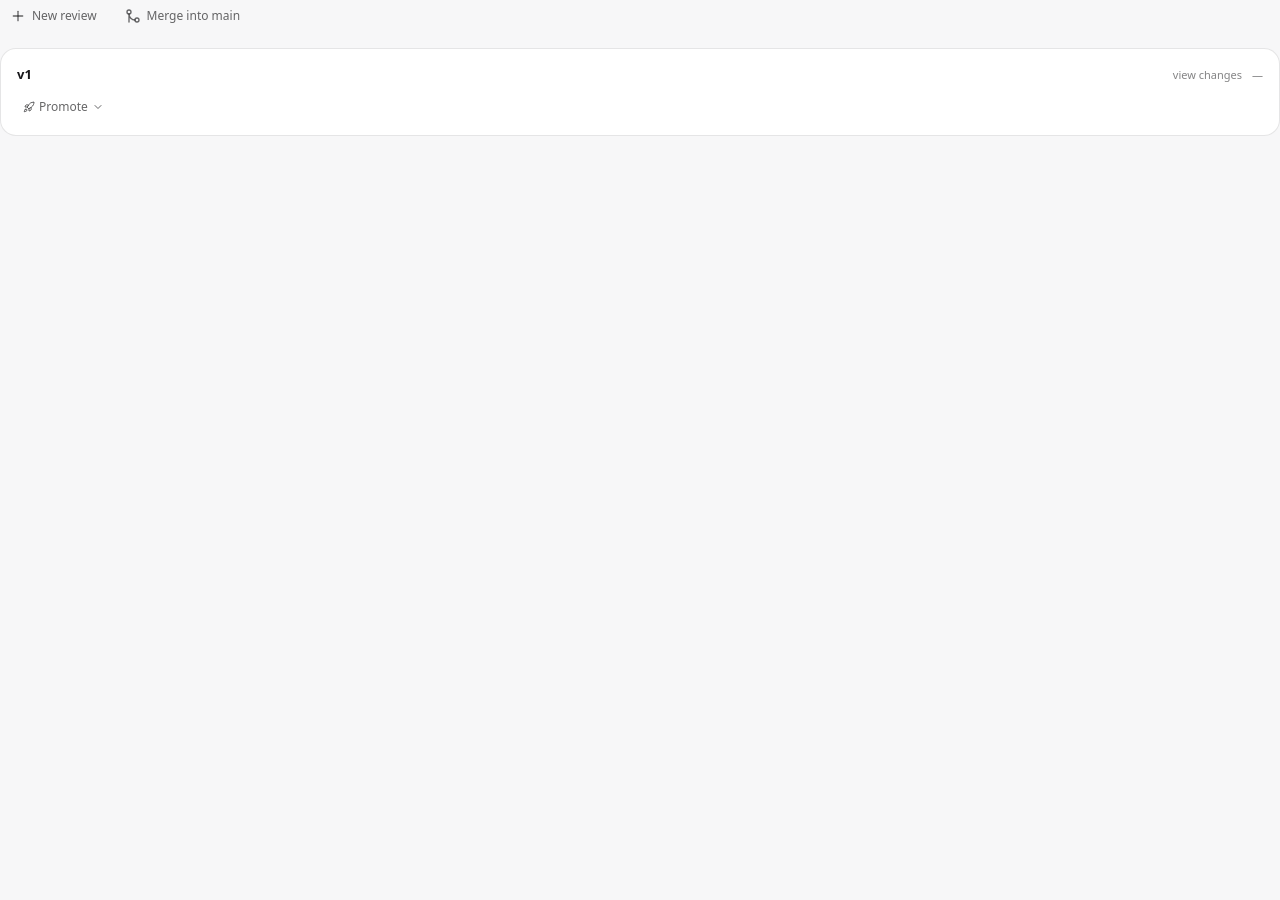
Test: ActivityFeed promote menu › drops an environment the workspace no longer has from the menu once promoting to it answers 404
Click the button "Promote" at (63, 106), box [17,94,110,118]
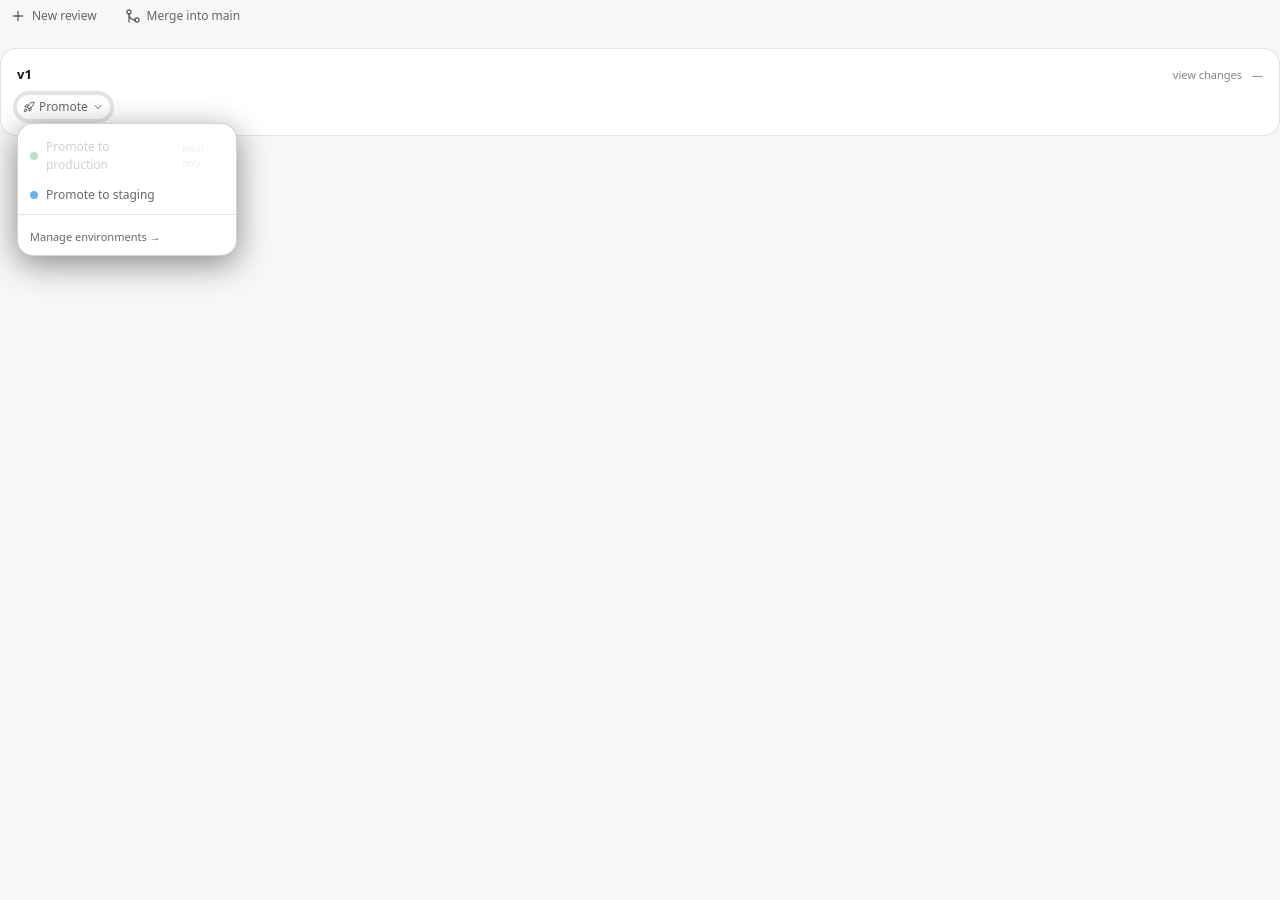
Click the button "Promote to staging" at (127, 194), box [18,180,236,210]
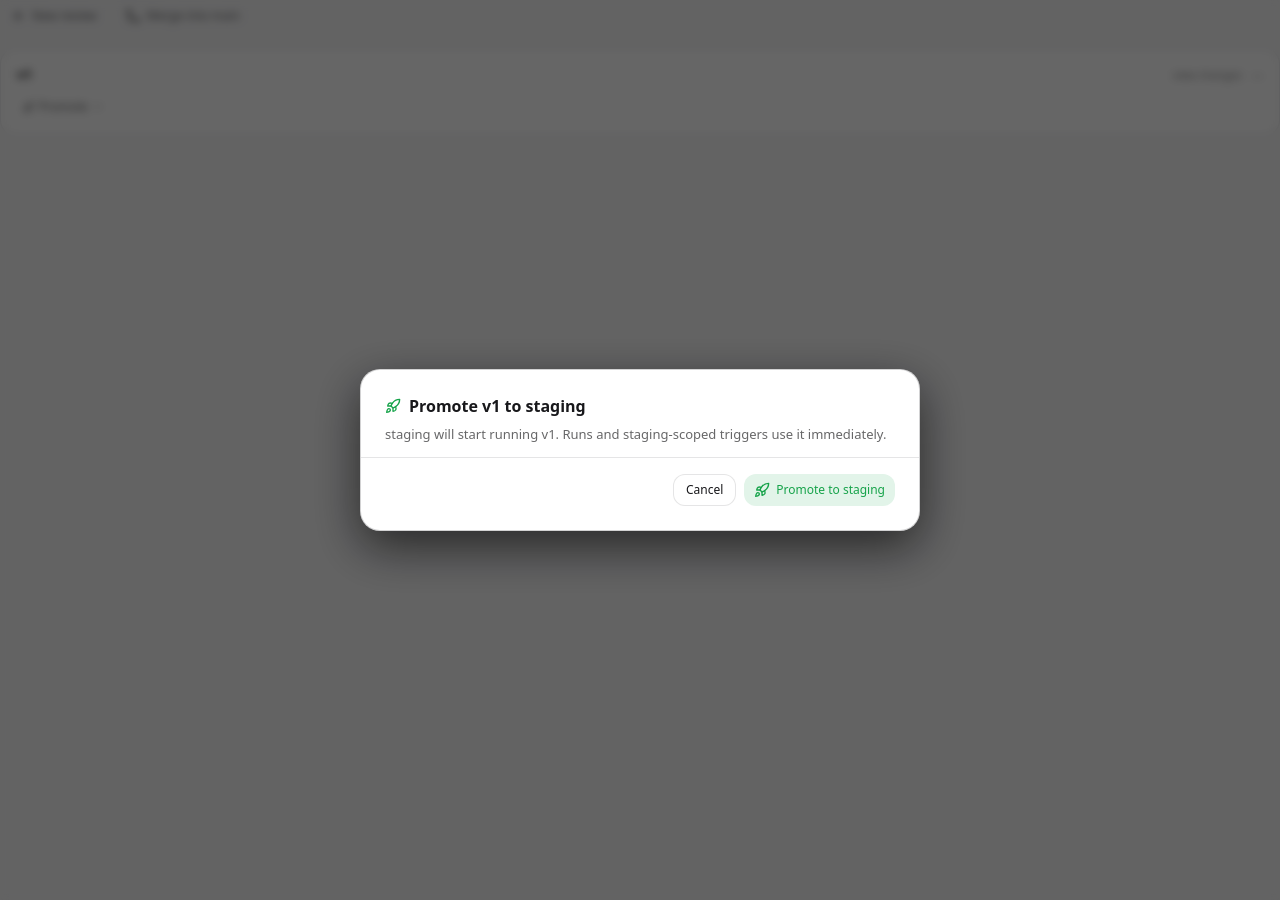
Click the button "Promote to staging" at (820, 490), box [744,474,895,506]
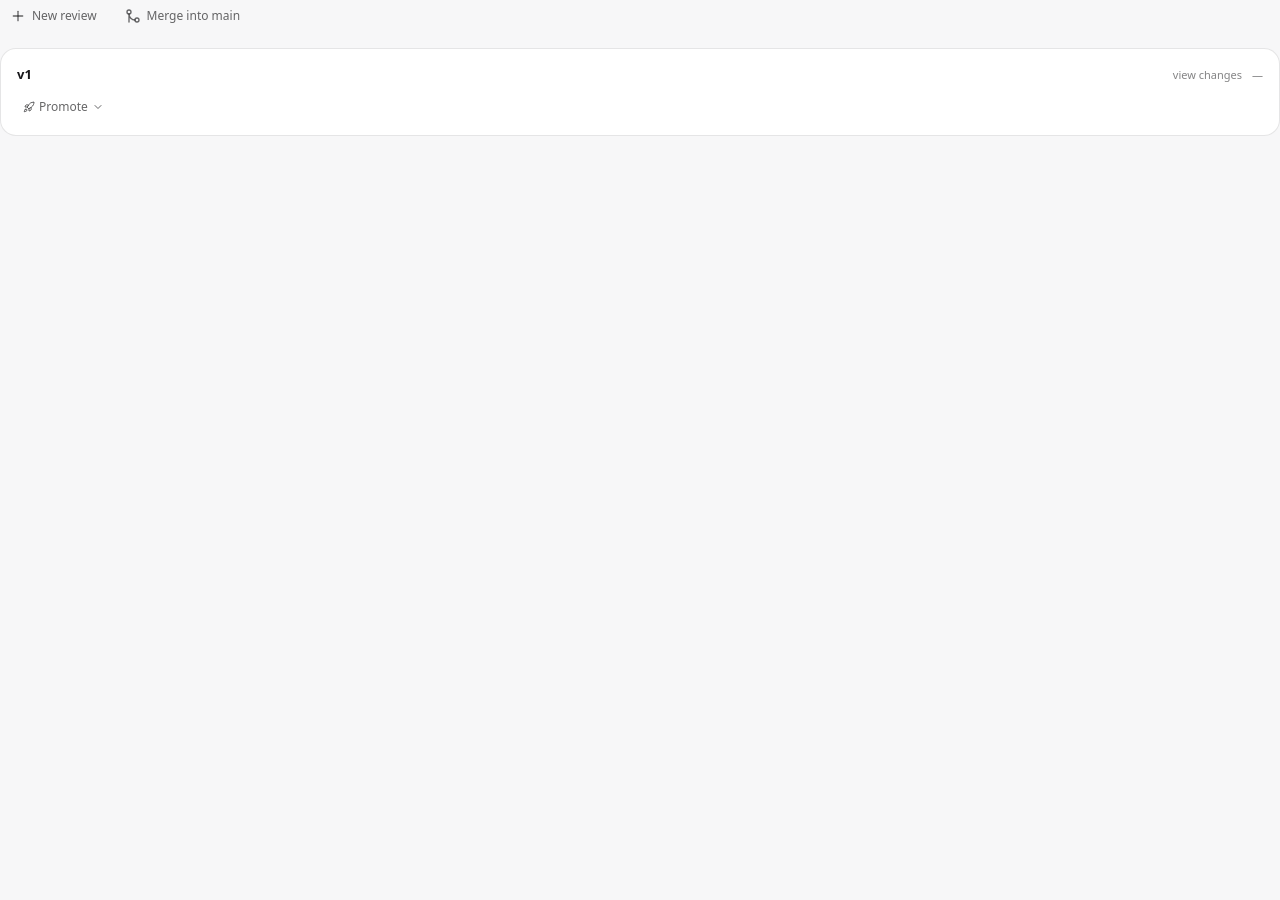
Now the dialog is gone
Click the button "Promote" at (63, 106), box [17,94,110,118]
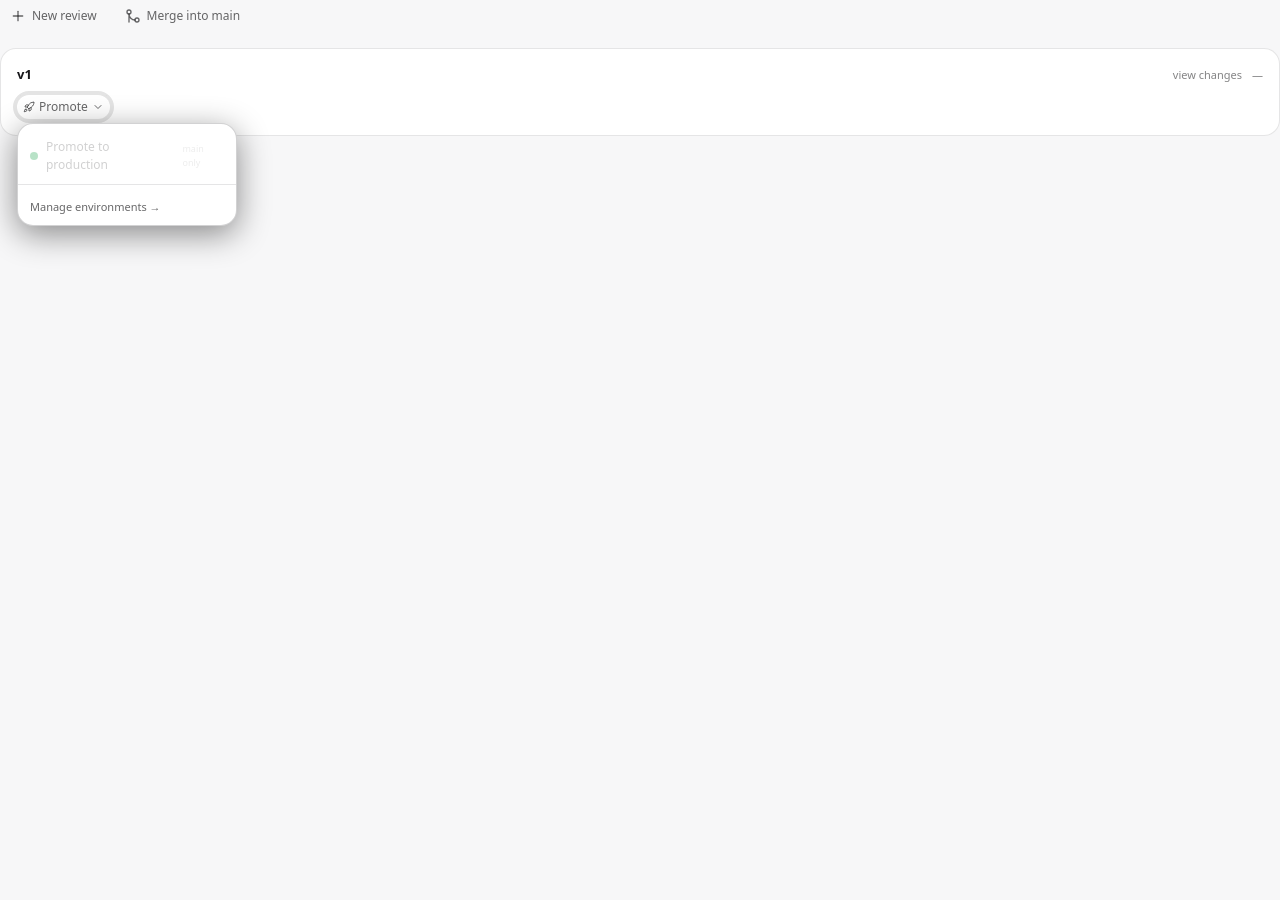
Expected: the button "Promote to staging" is not shown
Now the button "Promote to production main only" is shown, box [18,132,236,180]
